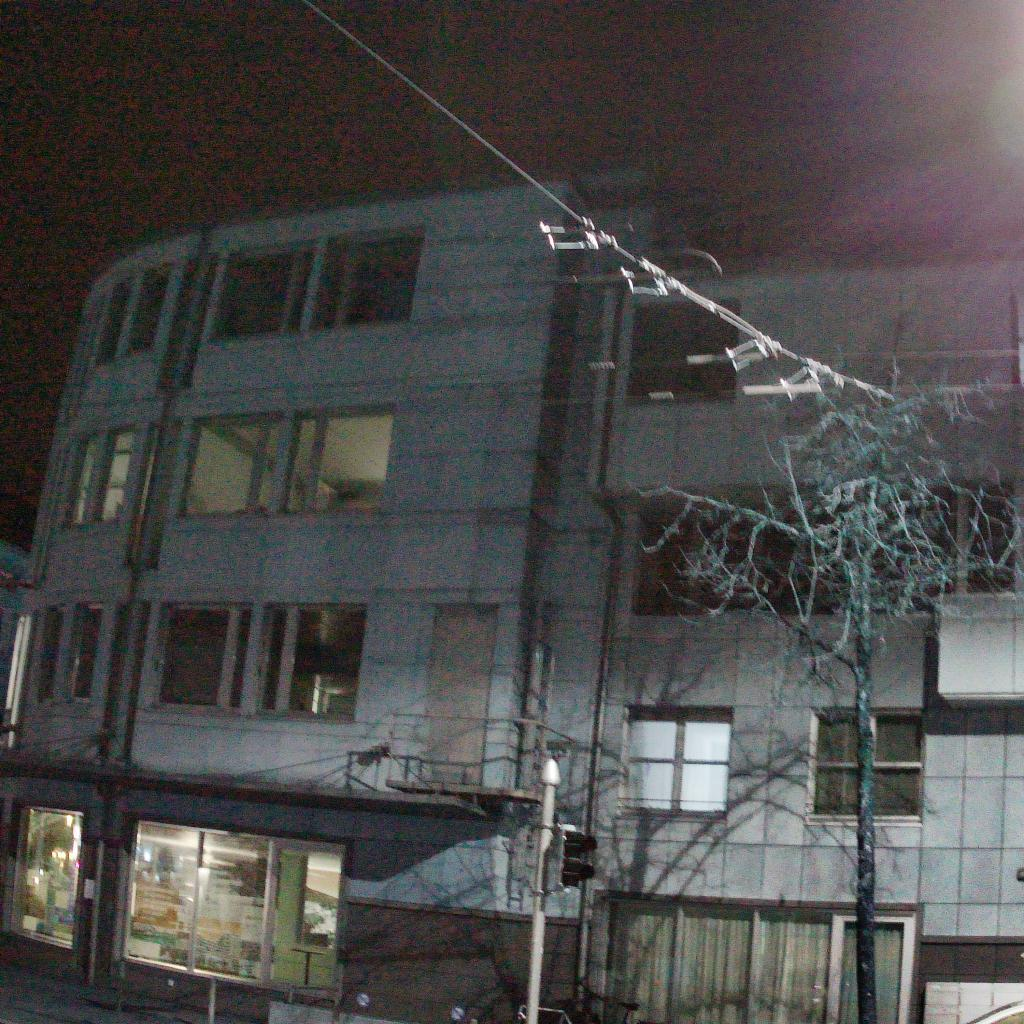balcony-fence: (384, 712, 577, 812)
facade: (0, 172, 1024, 1024)
shop: (116, 815, 350, 1003), (5, 802, 86, 952)
street: (0, 965, 265, 1024)
traffic-infrastructure: (524, 756, 599, 1024)
vegetation: (627, 375, 1024, 1024)
window: (583, 894, 920, 1024), (123, 820, 346, 999), (153, 602, 368, 723), (212, 226, 425, 342), (179, 406, 395, 516), (625, 297, 739, 403), (813, 711, 924, 818), (6, 806, 85, 950), (622, 710, 731, 814), (91, 260, 176, 369), (61, 422, 138, 529), (32, 601, 111, 704)
